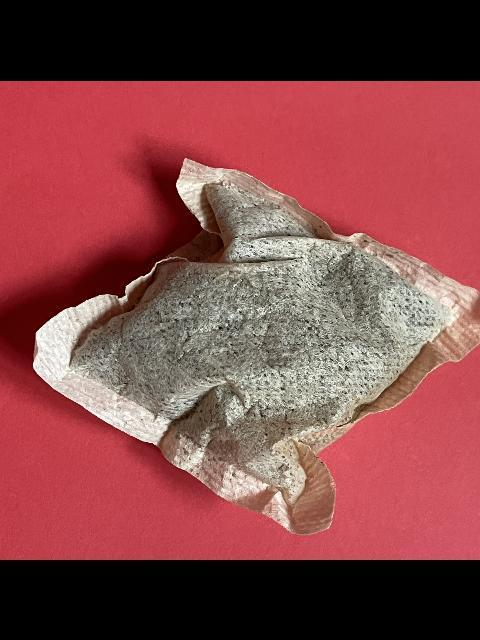teabag: (30, 157, 480, 535)
